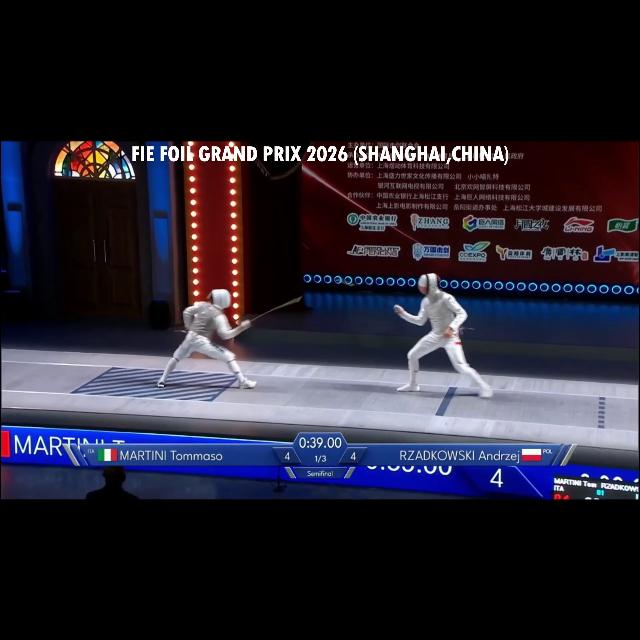blade: (334, 275, 400, 319), (241, 296, 307, 328)
